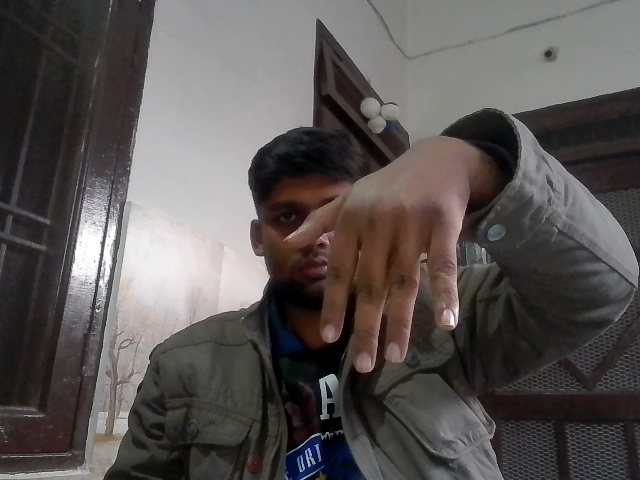HowAreYou: (272, 118, 491, 392)
